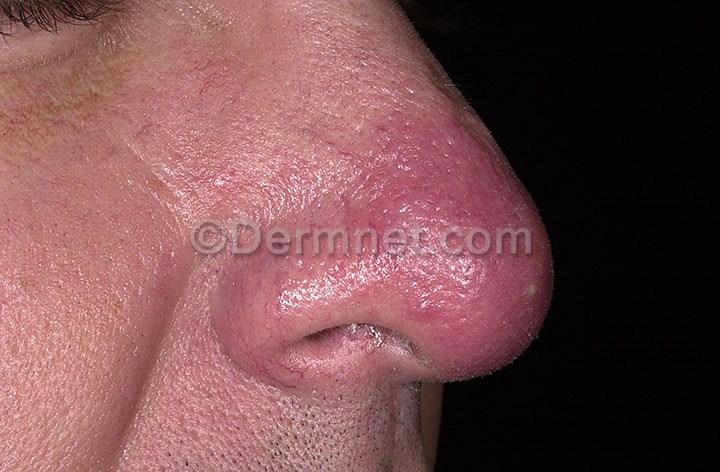Acne: (438, 106, 505, 180), (410, 278, 479, 338), (349, 188, 443, 232), (499, 255, 552, 318)
